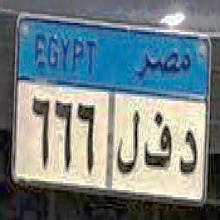6: (53, 101, 75, 173), (32, 93, 51, 175), (77, 100, 98, 174)
daal: (177, 126, 199, 179)
faa: (143, 113, 172, 172)
laam: (116, 110, 140, 176)
